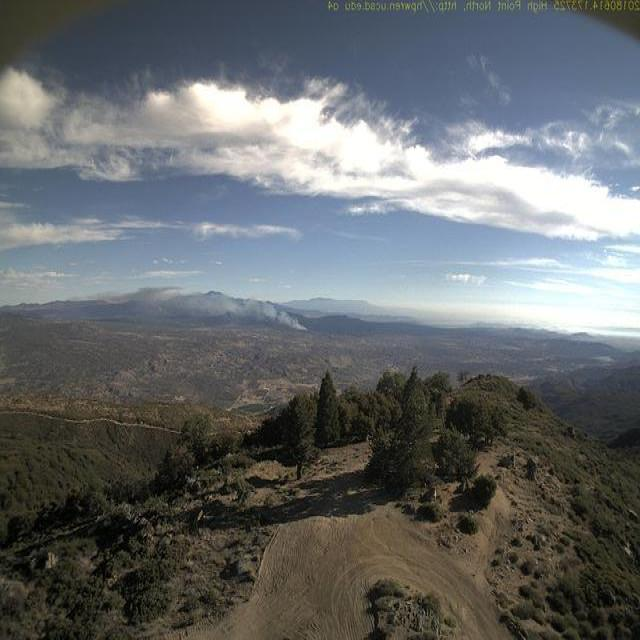Smoke: (158, 287, 311, 333)
